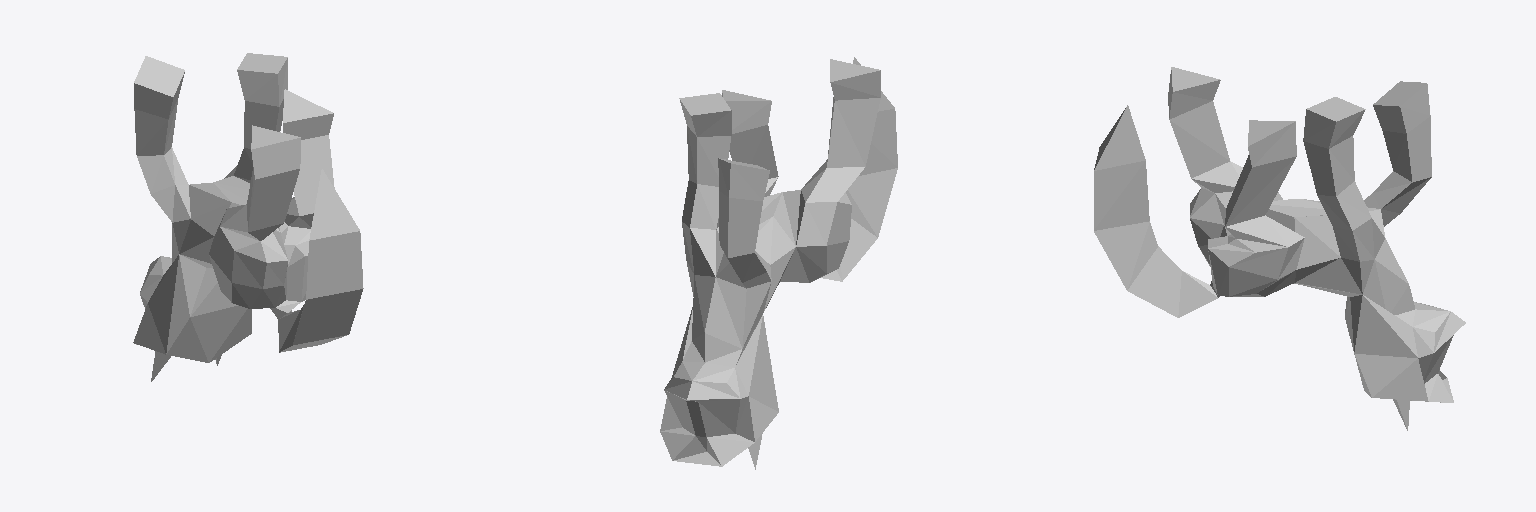
The model's file is PONY_000018.obj.
The picture shows the model from 3 angles: view 1: azimuth 30°, elevation 25°; view 2: azimuth 150°, elevation 25°; view 3: azimuth 270°, elevation 25°; orthographic projection.
Visible parts, largest first — view 1: pony; view 2: pony; view 3: pony.
Part boxes in pixels (bbox=[...]): pony: bbox=[133, 53, 363, 381]; pony: bbox=[660, 57, 897, 469]; pony: bbox=[1094, 67, 1465, 430].
Bounding box in the file's own units: 3.58 × 9.01 × 9.28.